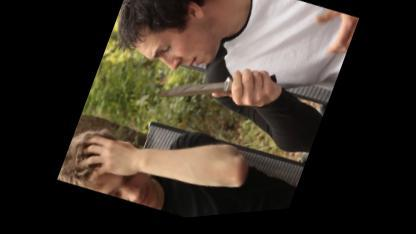knife: (145, 34, 280, 146)
